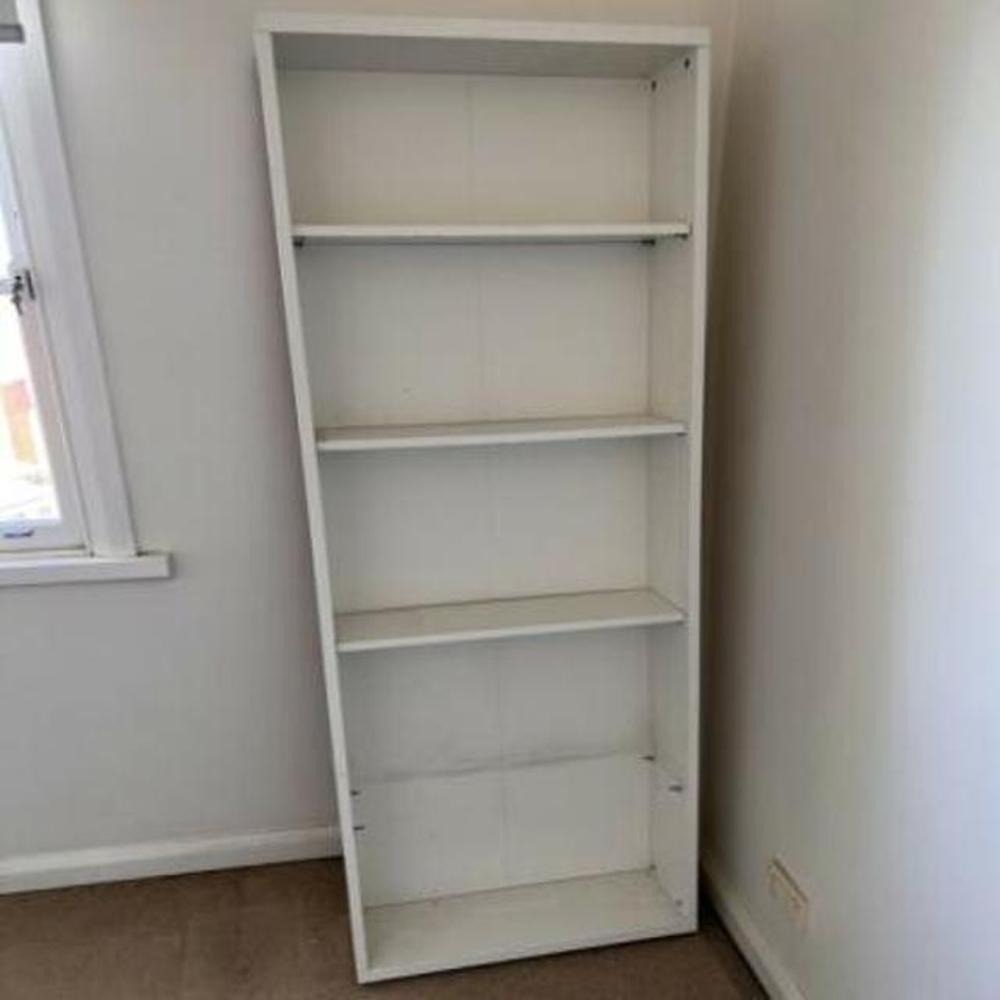lamp: (249, 14, 718, 989)
